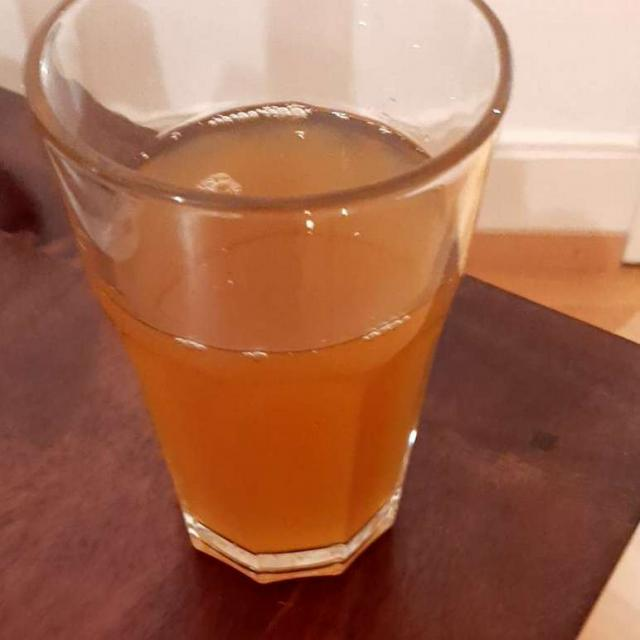juice-apple: (92, 108, 461, 566)
